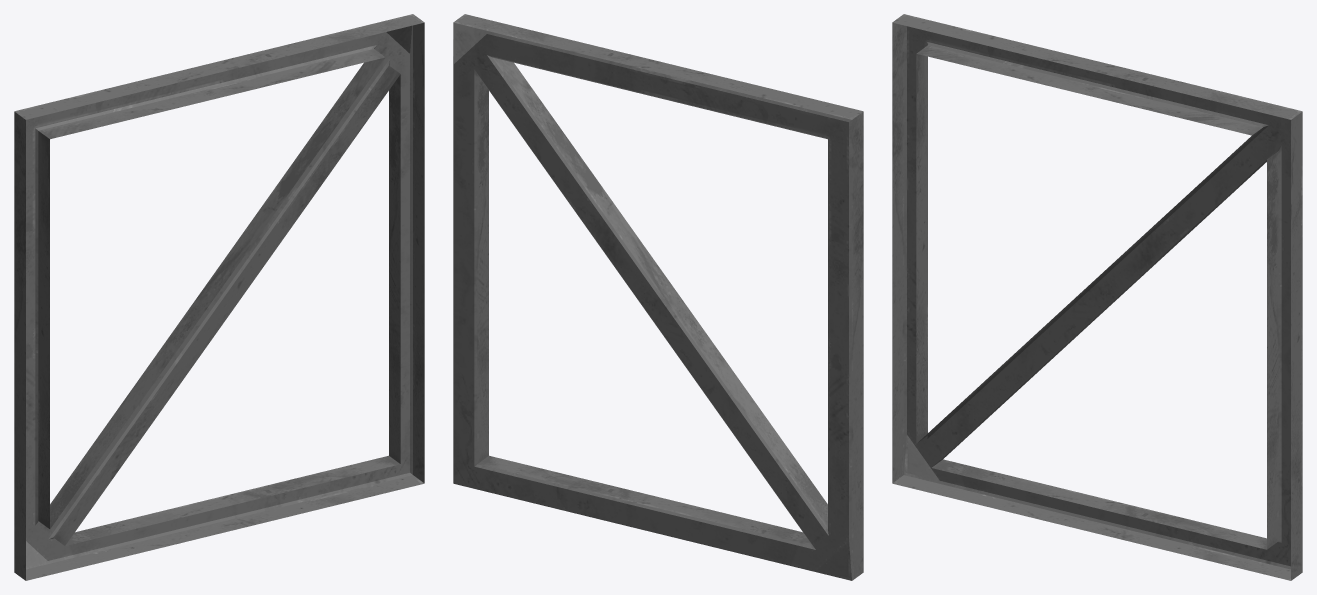
File: Frames2.fbx
3 views of the same model, side by side, from view 1: azimuth 30°, elevation 25°; view 2: azimuth 150°, elevation 25°; view 3: azimuth 330°, elevation 25° (orthographic).
Parts seen in each view (by area): view 1: SM_Facade_GlassWall.007; view 2: SM_Facade_GlassWall.007; view 3: SM_Facade_GlassWall.007.
Boxes of the visible parts, x1,y1,x2,y2 form: SM_Facade_GlassWall.007: (14, 14, 424, 580); SM_Facade_GlassWall.007: (453, 14, 863, 580); SM_Facade_GlassWall.007: (892, 14, 1302, 580).
Bounding box in the file's own units: 383 × 423 × 21.35.
